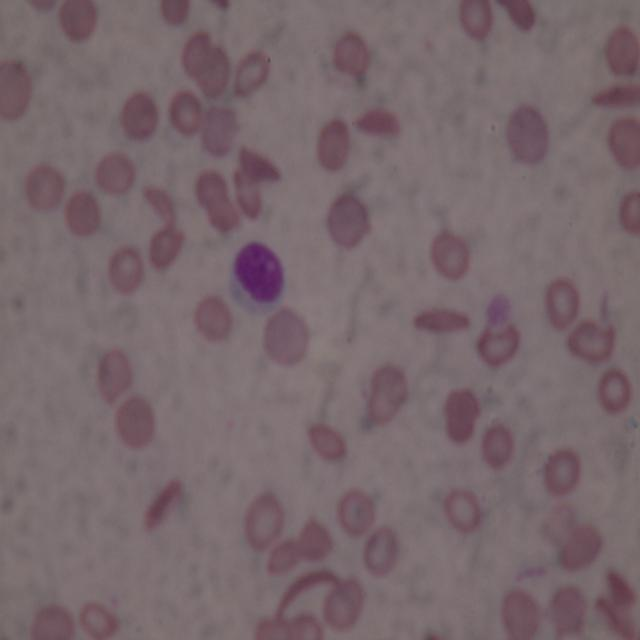Crystal: (233, 165, 264, 224), (494, 0, 539, 36)
Normal: (541, 446, 583, 501), (441, 488, 482, 535), (106, 246, 144, 296), (544, 278, 580, 329), (456, 0, 496, 45), (598, 369, 631, 416), (168, 90, 202, 134)
Others: (262, 302, 312, 364), (503, 104, 550, 169), (325, 191, 371, 255), (362, 362, 409, 424), (194, 171, 239, 235), (244, 490, 284, 552), (499, 586, 544, 638), (429, 230, 473, 283), (199, 105, 241, 159), (558, 522, 602, 572), (121, 90, 161, 144), (325, 580, 368, 630), (115, 396, 154, 450), (568, 322, 618, 364), (0, 57, 32, 122), (442, 388, 480, 442), (604, 115, 640, 172), (315, 118, 352, 173), (97, 346, 132, 404), (550, 584, 589, 635), (196, 46, 232, 101), (307, 420, 352, 464), (338, 486, 374, 540), (76, 598, 122, 640), (57, 0, 99, 45), (194, 295, 233, 343), (298, 516, 337, 564), (605, 22, 639, 77), (62, 191, 104, 235), (25, 164, 64, 211), (92, 152, 135, 194), (333, 33, 369, 82), (480, 423, 516, 472), (232, 51, 269, 98), (149, 228, 187, 272), (477, 328, 521, 366), (366, 525, 399, 575), (179, 29, 212, 76), (619, 190, 640, 237)
Sickle: (274, 569, 338, 614), (141, 475, 183, 536), (409, 307, 472, 338), (592, 75, 640, 113), (141, 183, 178, 230), (353, 105, 400, 142), (238, 144, 283, 182)
